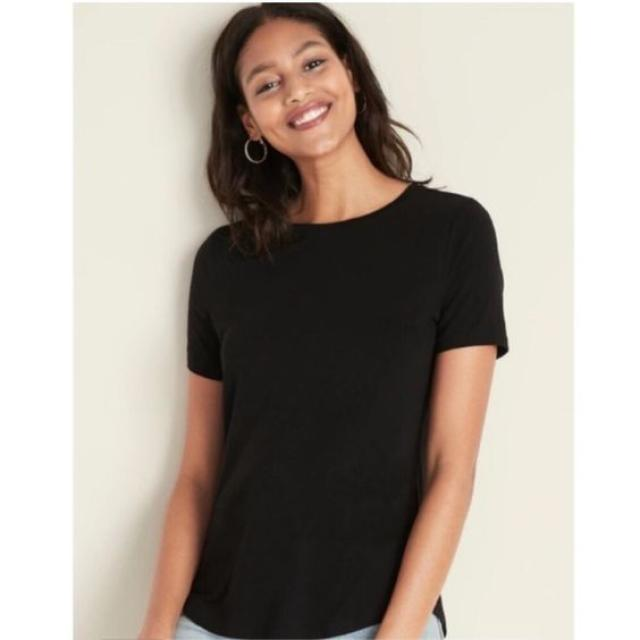shoulder: (175, 189, 503, 294)
